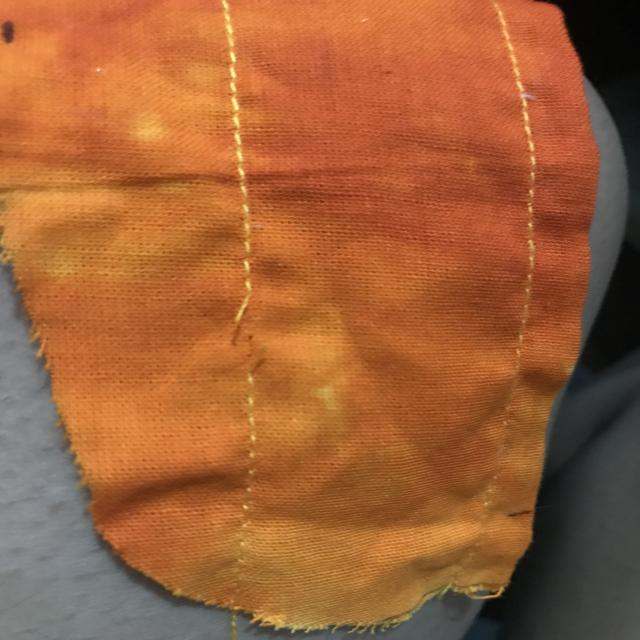broken: (222, 276, 292, 398)
good: (214, 84, 281, 230)
